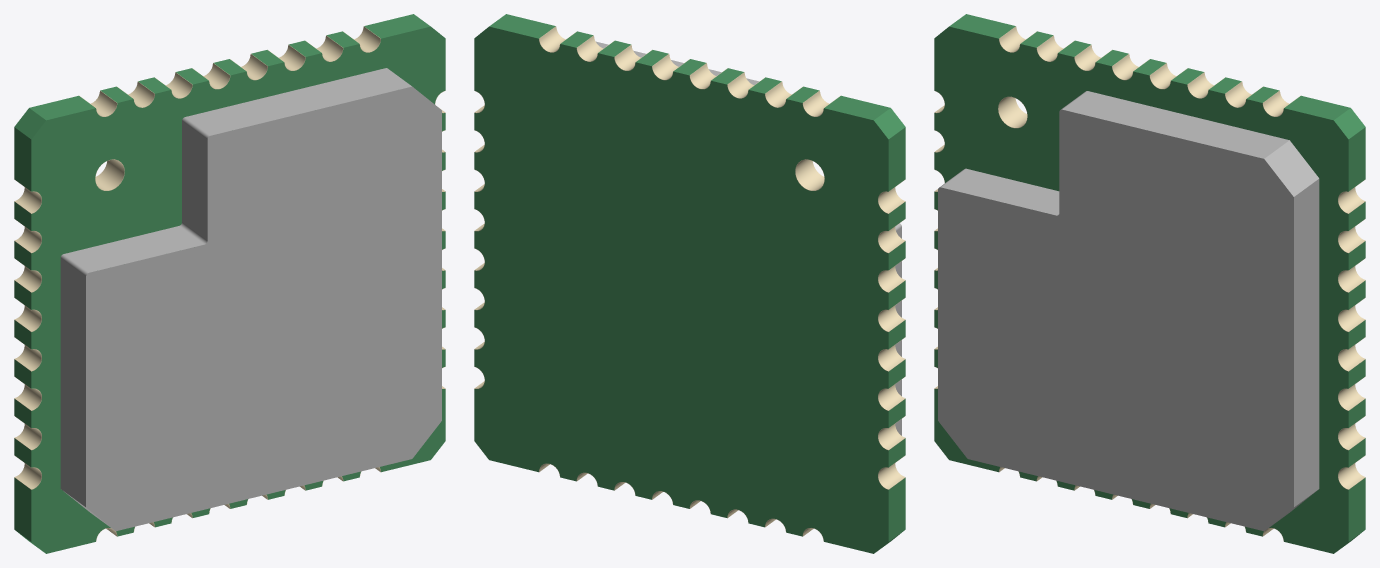
The model's file is MonoWireless_TWE-L-WX.glb.
The picture shows the model from 3 angles, left to right: view 1: azimuth 30°, elevation 25°; view 2: azimuth 150°, elevation 25°; view 3: azimuth 330°, elevation 25°; orthographic projection.
Visible parts, largest first — view 1: Shape_IndexedFaceSet.219, Shape_IndexedFaceSet.006, Shape_IndexedFaceSet.116, Shape_IndexedFaceSet.122, Shape_IndexedFaceSet.114, Shape_IndexedFaceSet.112, Shape_IndexedFaceSet.046, Shape_IndexedFaceSet.078, Shape_IndexedFaceSet.010, Shape_IndexedFaceSet.042, Shape_IndexedFaceSet, Shape_IndexedFaceSet.044; view 2: Shape_IndexedFaceSet.005, Shape_IndexedFaceSet.078, Shape_IndexedFaceSet.046, Shape_IndexedFaceSet.010, Shape_IndexedFaceSet.042, Shape_IndexedFaceSet, Shape_IndexedFaceSet.044; view 3: Shape_IndexedFaceSet.219, Shape_IndexedFaceSet.006, Shape_IndexedFaceSet.120, Shape_IndexedFaceSet.122, Shape_IndexedFaceSet.114, Shape_IndexedFaceSet.121, Shape_IndexedFaceSet.039, Shape_IndexedFaceSet.007, Shape_IndexedFaceSet.042, Shape_IndexedFaceSet.010, Shape_IndexedFaceSet, Shape_IndexedFaceSet.008.
Part boxes in pixels (x1=…): Shape_IndexedFaceSet.219: x1=86, y1=86, x2=441, y2=531; Shape_IndexedFaceSet.006: x1=31, y1=26, x2=445, y2=553; Shape_IndexedFaceSet.116: x1=60, y1=258, x2=85, y2=506; Shape_IndexedFaceSet.122: x1=185, y1=68, x2=411, y2=135; Shape_IndexedFaceSet.114: x1=64, y1=226, x2=203, y2=272; Shape_IndexedFaceSet.112: x1=182, y1=121, x2=207, y2=240; Shape_IndexedFaceSet.046: x1=14, y1=127, x2=31, y2=191; Shape_IndexedFaceSet.078: x1=14, y1=477, x2=31, y2=541; Shape_IndexedFaceSet.010: x1=364, y1=14, x2=430, y2=38; Shape_IndexedFaceSet.042: x1=29, y1=95, x2=95, y2=120; Shape_IndexedFaceSet: x1=95, y1=159, x2=124, y2=190; Shape_IndexedFaceSet.044: x1=14, y1=108, x2=45, y2=139; Shape_IndexedFaceSet.005: x1=474, y1=26, x2=888, y2=553; Shape_IndexedFaceSet.078: x1=888, y1=477, x2=905, y2=541; Shape_IndexedFaceSet.046: x1=888, y1=127, x2=905, y2=191; Shape_IndexedFaceSet.010: x1=489, y1=14, x2=555, y2=38; Shape_IndexedFaceSet.042: x1=824, y1=95, x2=890, y2=120; Shape_IndexedFaceSet: x1=795, y1=159, x2=824, y2=190; Shape_IndexedFaceSet.044: x1=874, y1=108, x2=905, y2=139; Shape_IndexedFaceSet.219: x1=938, y1=109, x2=1293, y2=531; Shape_IndexedFaceSet.006: x1=934, y1=26, x2=1348, y2=553; Shape_IndexedFaceSet.120: x1=1294, y1=179, x2=1319, y2=506; Shape_IndexedFaceSet.122: x1=1063, y1=91, x2=1289, y2=158; Shape_IndexedFaceSet.114: x1=941, y1=168, x2=1059, y2=215; Shape_IndexedFaceSet.121: x1=1264, y1=140, x2=1318, y2=196; Shape_IndexedFaceSet.039: x1=1348, y1=477, x2=1365, y2=541; Shape_IndexedFaceSet.007: x1=1348, y1=127, x2=1365, y2=191; Shape_IndexedFaceSet.042: x1=949, y1=14, x2=1015, y2=38; Shape_IndexedFaceSet.010: x1=1284, y1=95, x2=1350, y2=120; Shape_IndexedFaceSet: x1=998, y1=97, x2=1027, y2=127; Shape_IndexedFaceSet.008: x1=1334, y1=108, x2=1365, y2=139.
Bounding box in the file's own units: 5.5 × 5.5 × 0.9803.
